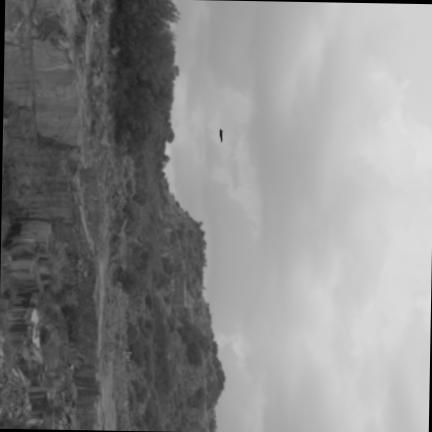Shahed: (217, 126, 224, 143)
